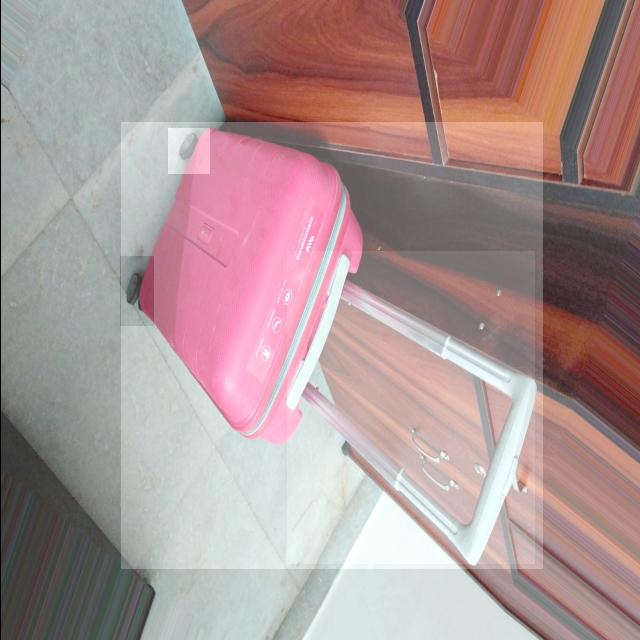Bag: (123, 118, 543, 563)
Handle: (295, 256, 540, 566), (389, 0, 634, 174)
